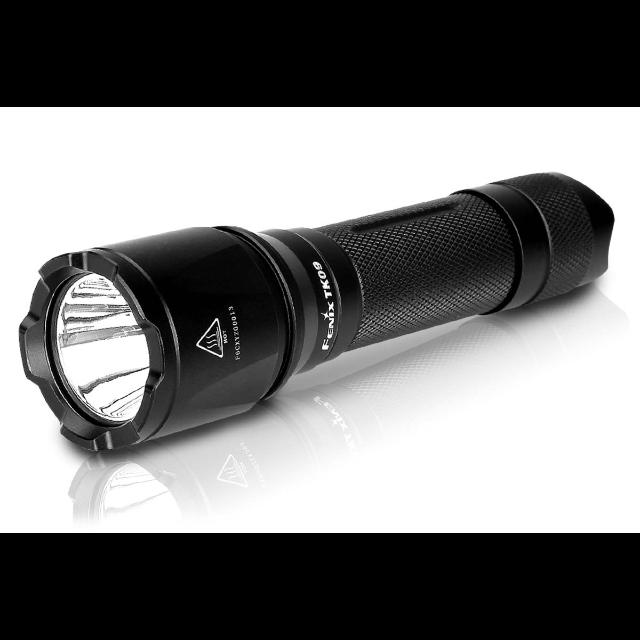Flashlight: (10, 165, 624, 462)
